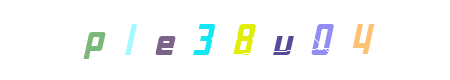0: (275, 0, 355, 80)
1: (126, 0, 206, 80)
3: (175, 0, 255, 80)
4: (310, 0, 390, 80)
8: (184, 0, 264, 80)
E: (166, 0, 246, 80)
P: (54, 0, 134, 80)
V: (204, 0, 284, 80)
